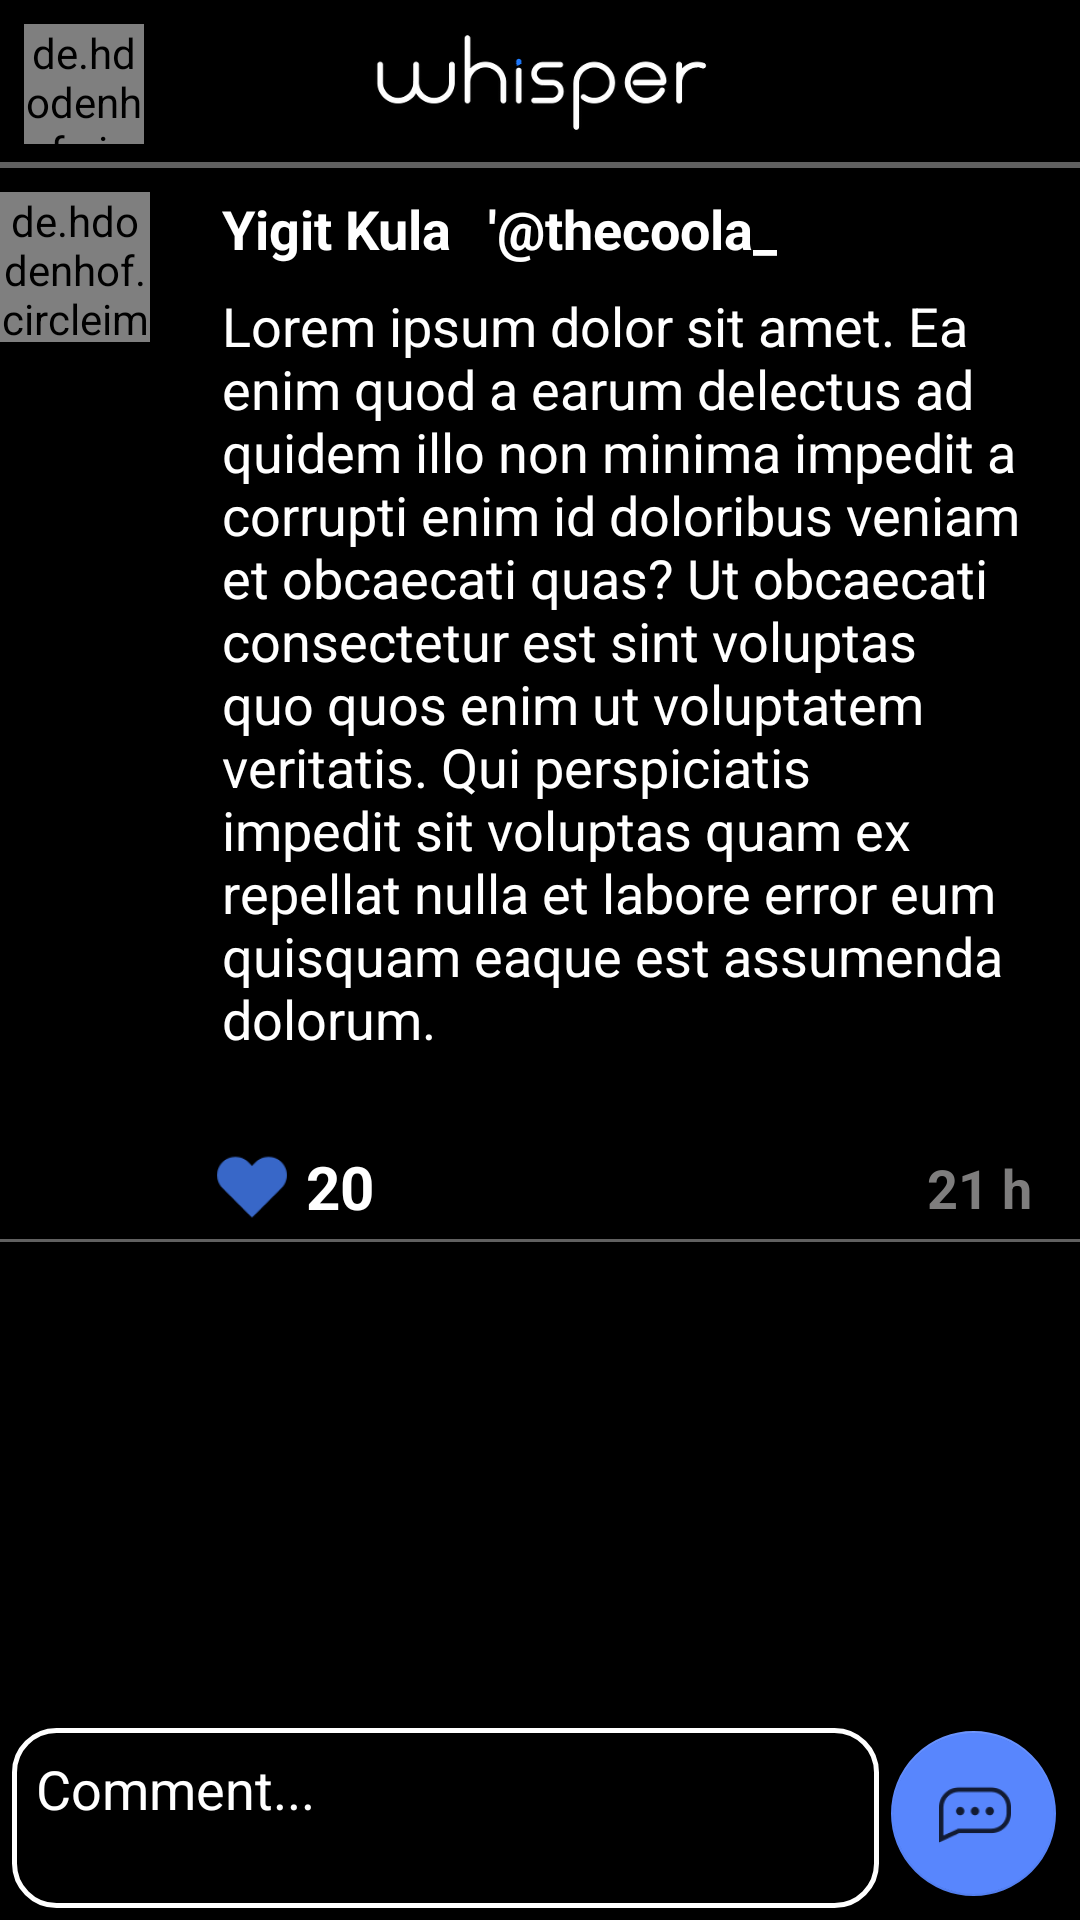

Where to tap for icons on this 1080×1920 app screen, as (x,y):
like: (252,1187)
